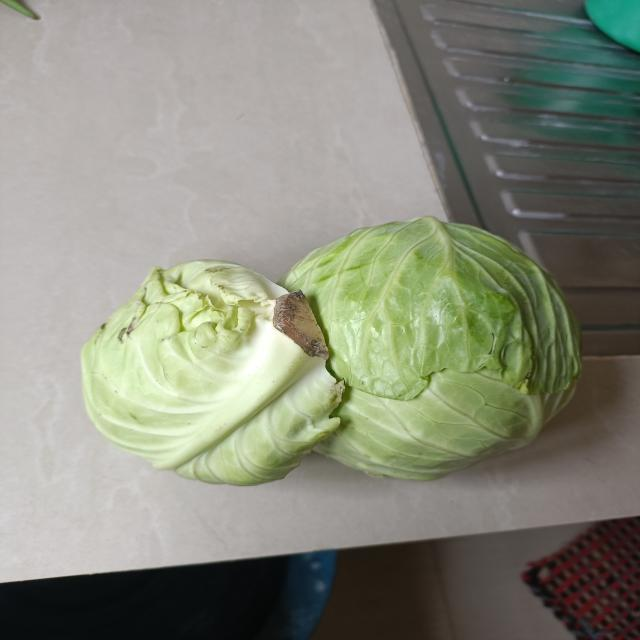cabbage: (276, 216, 581, 480), (83, 259, 326, 485)
